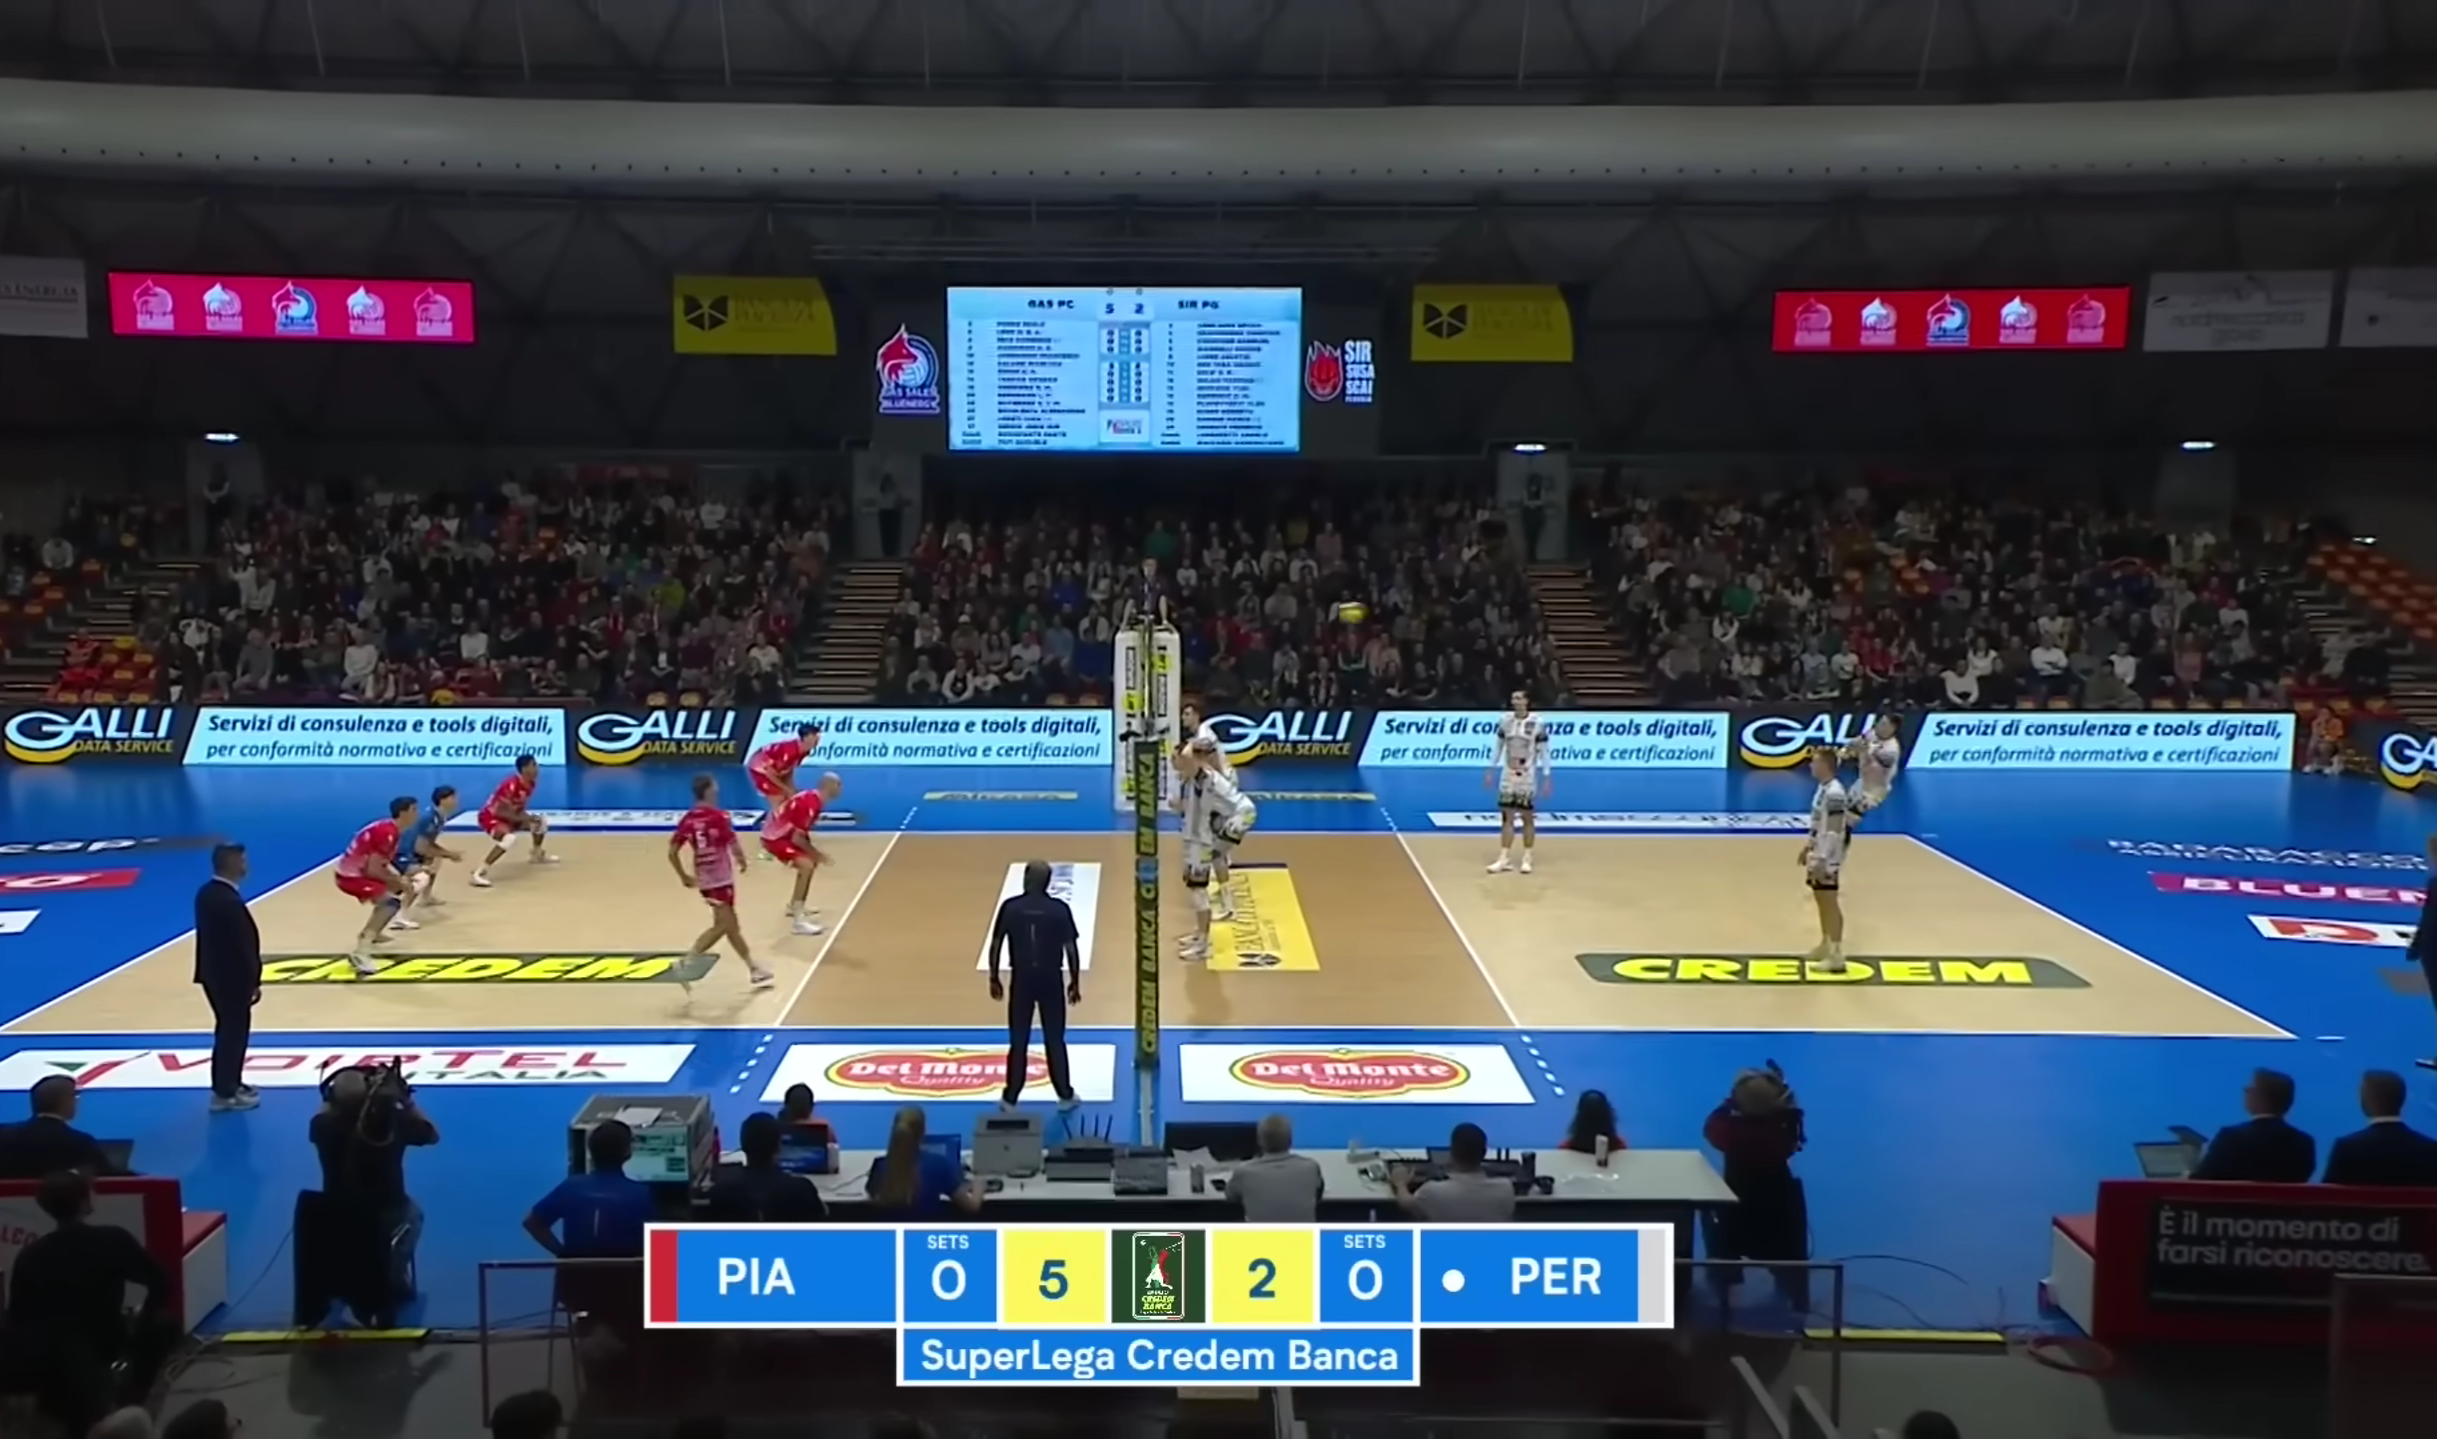Ball: (1336, 600, 1371, 626)
